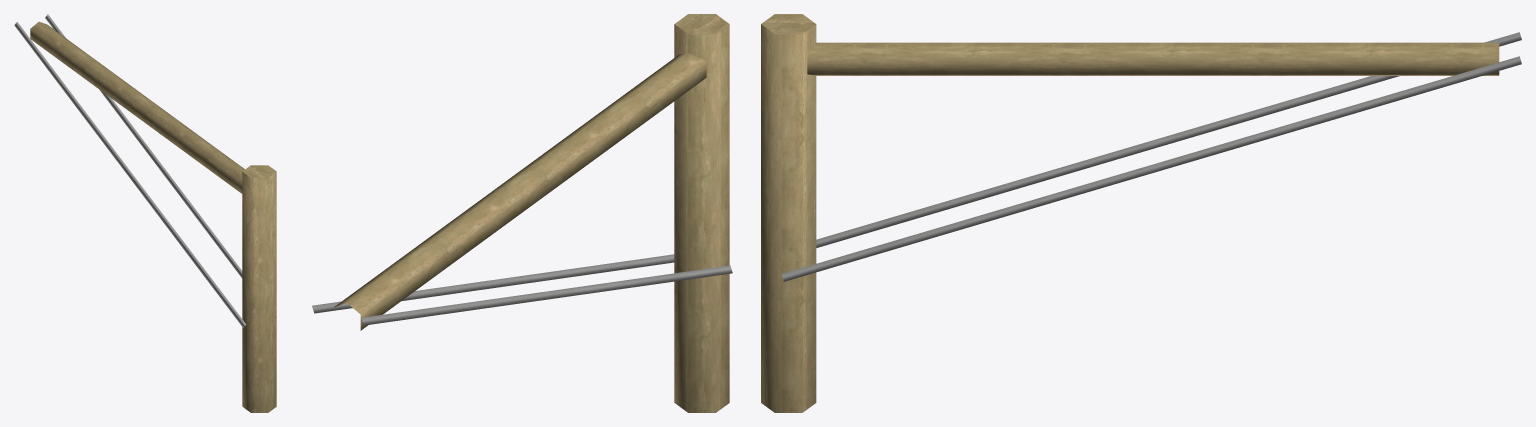
File: farm-fenceWood-start-cbj_LOD02.gltf
3 renders of one model, left to right at view 1: azimuth 30°, elevation 25°; view 2: azimuth 150°, elevation 25°; view 3: azimuth 270°, elevation 25°, orthographic. The views are drawn at different scales.
Visible parts, largest first — view 1: fence02; view 2: fence02; view 3: fence02.
Boxes of the visible parts, bbox=[...] form: fence02: bbox=[14, 14, 276, 412]; fence02: bbox=[312, 14, 732, 412]; fence02: bbox=[761, 14, 1521, 412].
Size of what is drawn, in the model's own units: 0.2863 by 1.83 by 3.33.
